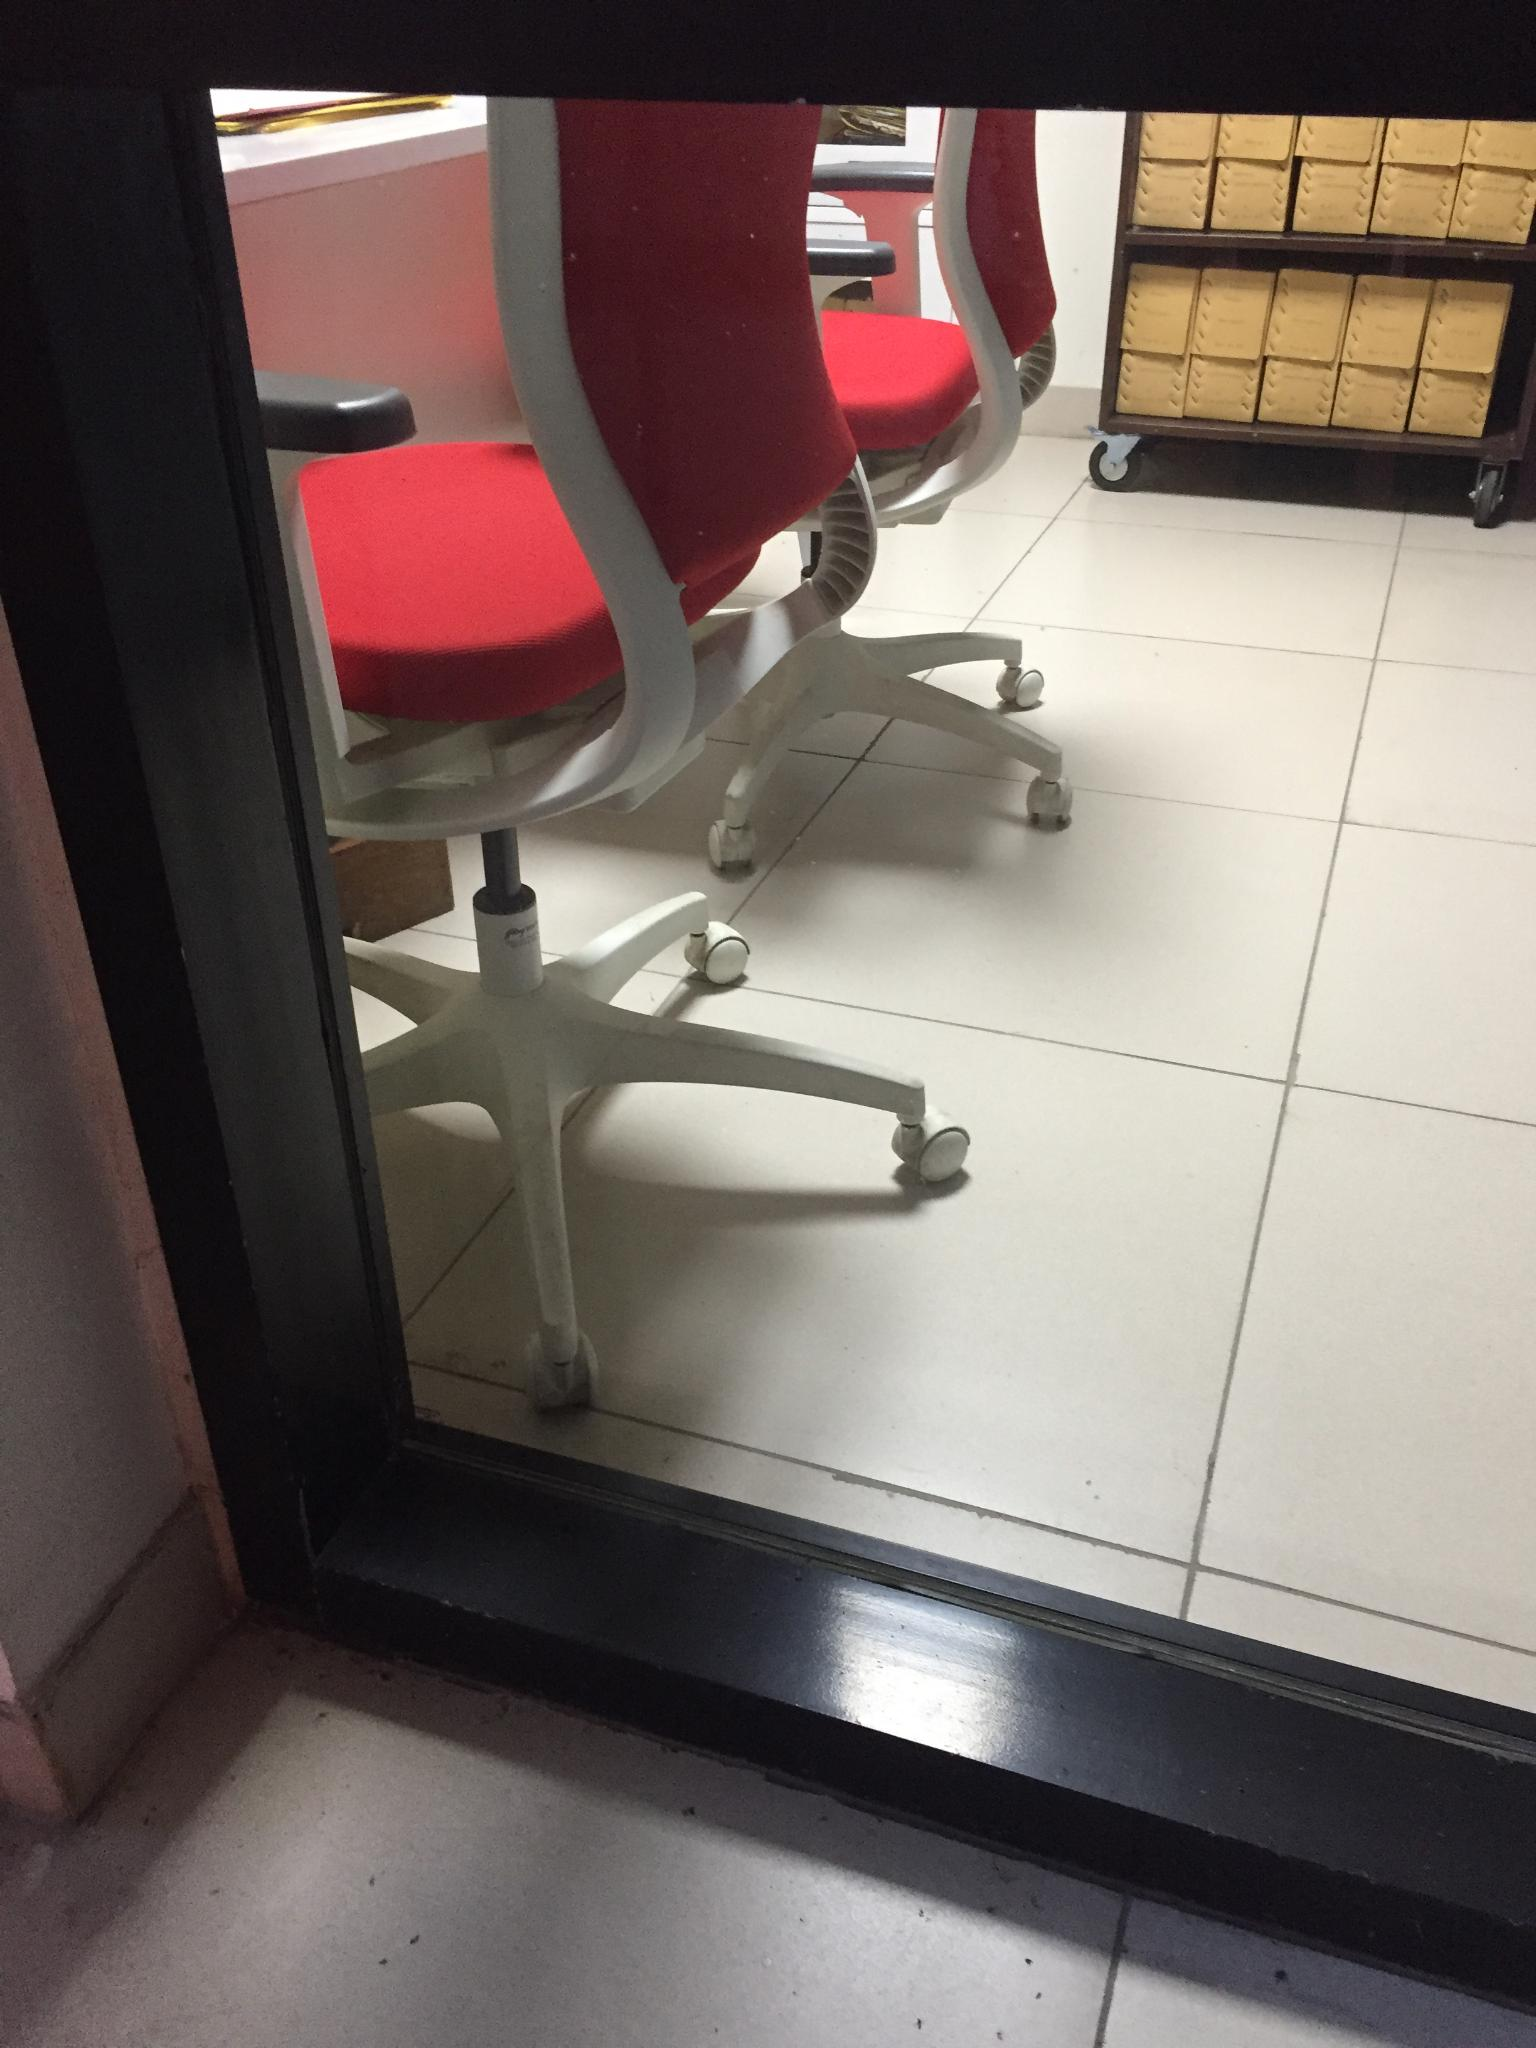chair: (260, 94, 995, 1408), (703, 2, 1076, 892), (824, 74, 829, 82)
